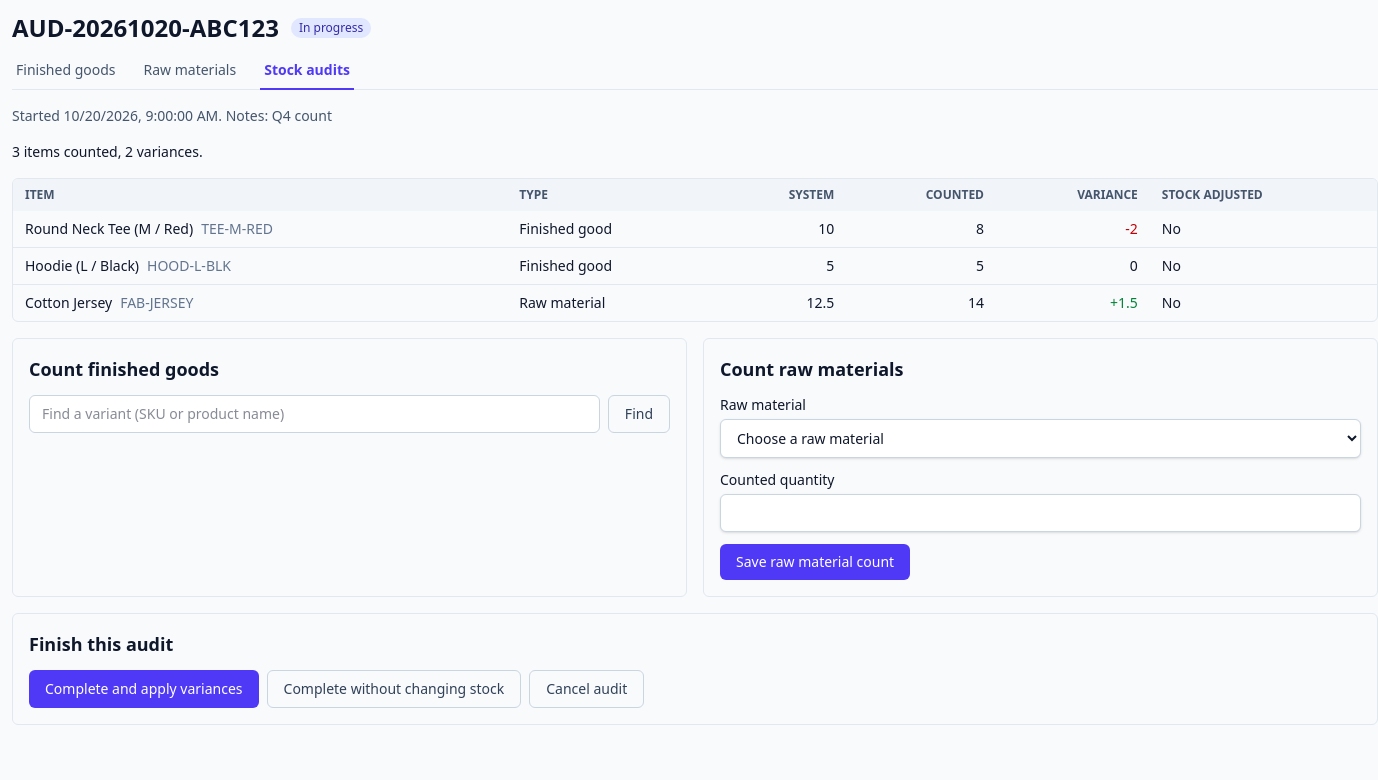
AuditDetailPage › counts a finished-goods variant found by search
The width and height of the screenshot is (1378, 780).
Type "tee" into the field labelled "Find a variant (SKU or product name)" at [314, 414], box left=29, top=395, right=600, bottom=433
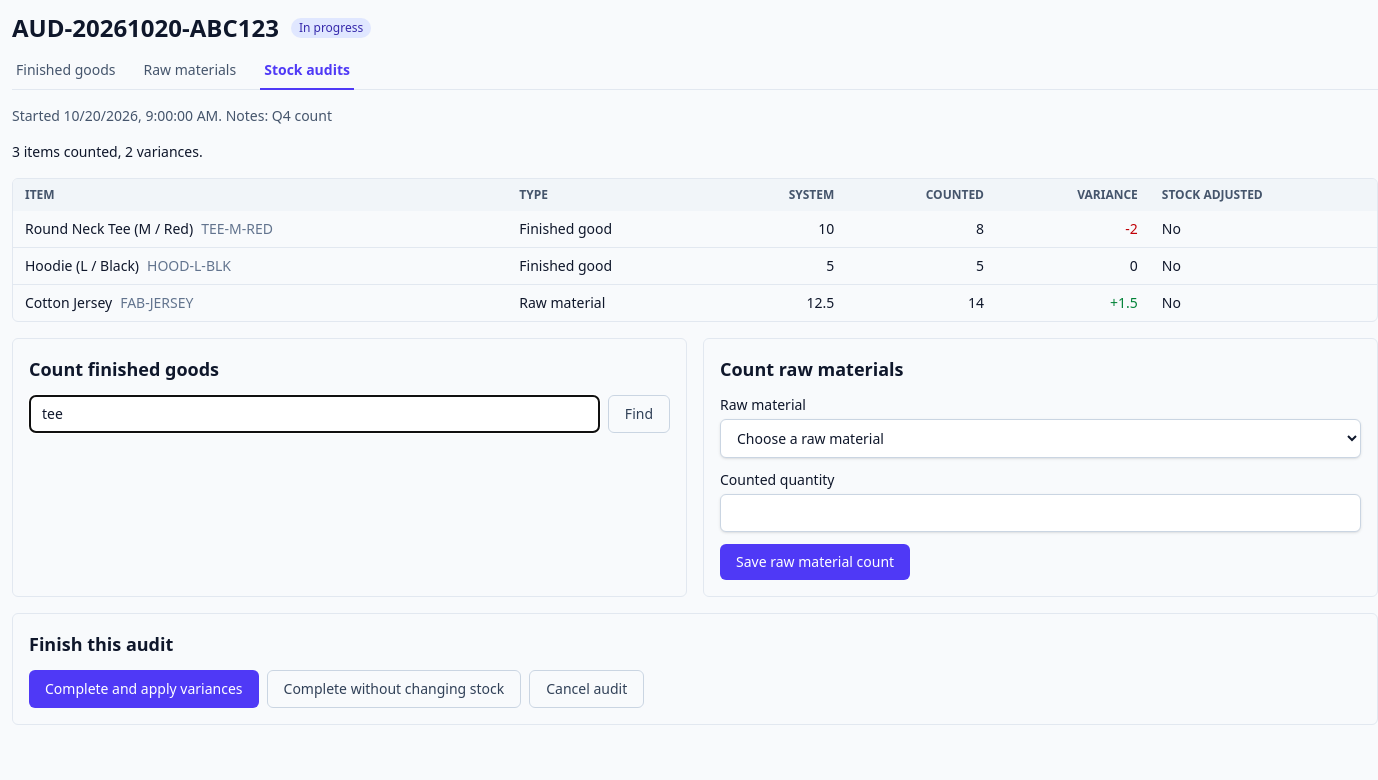
Click the button "Find" at [639, 414], box left=608, top=395, right=670, bottom=433
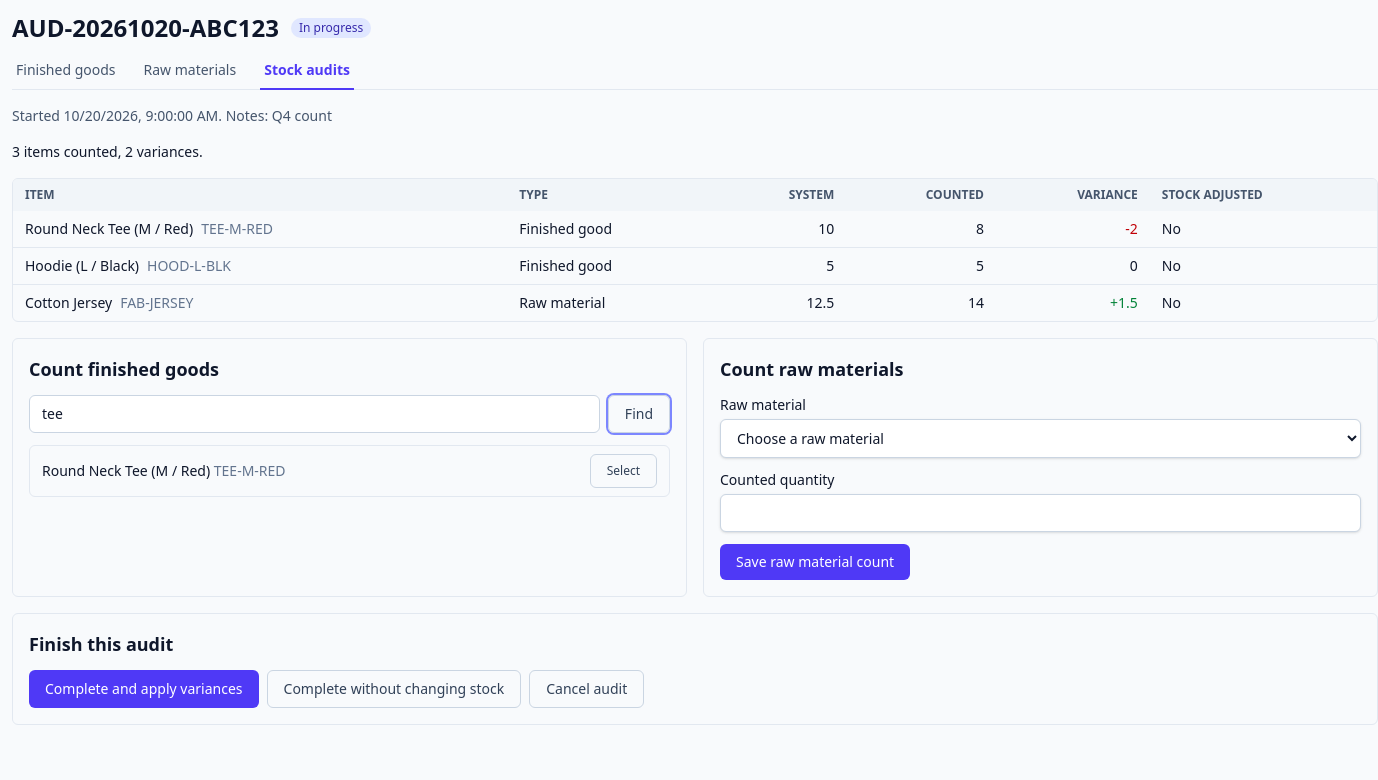
Click the button with aria-label "Select Round Neck Tee (M / Red)" at [623, 471], box left=590, top=454, right=657, bottom=488
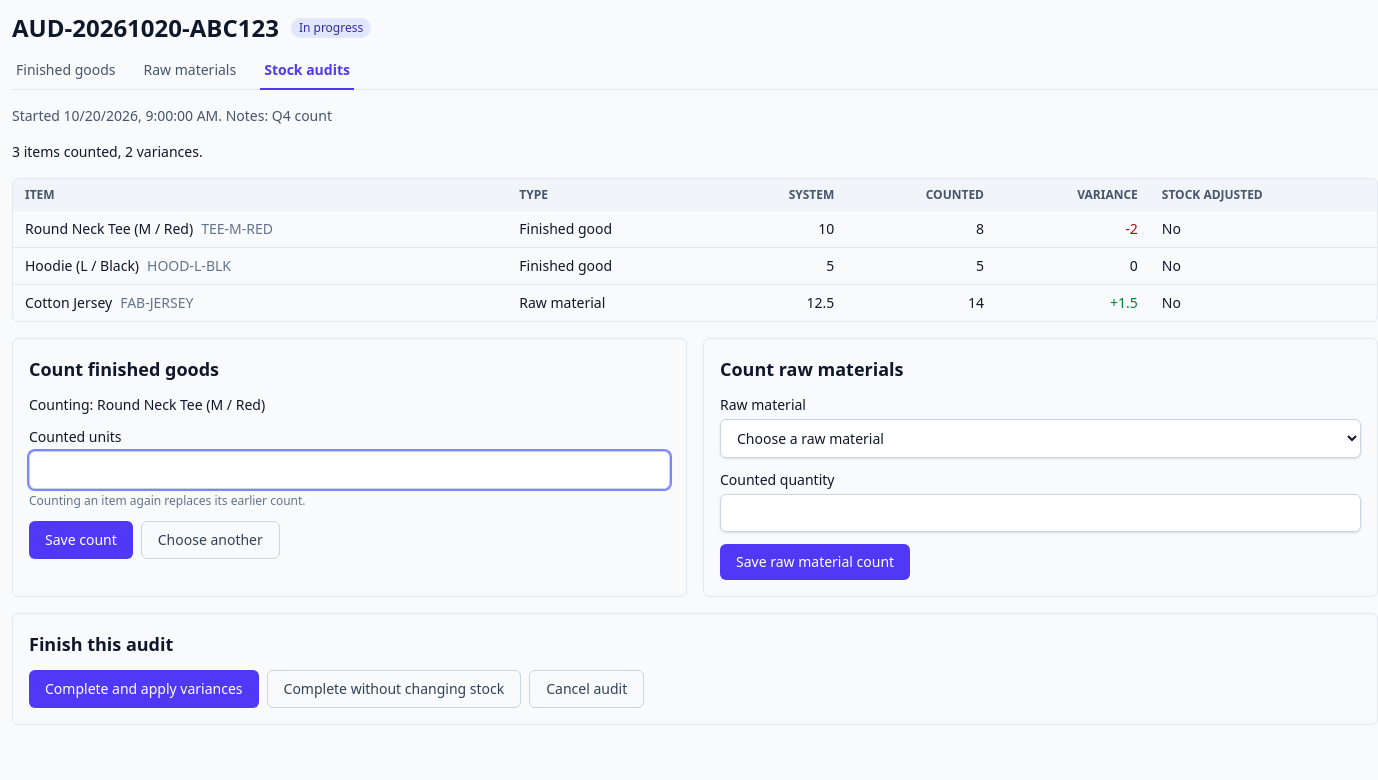
Type "8" into the field labelled "Counted units" at [350, 470], box left=29, top=451, right=670, bottom=489
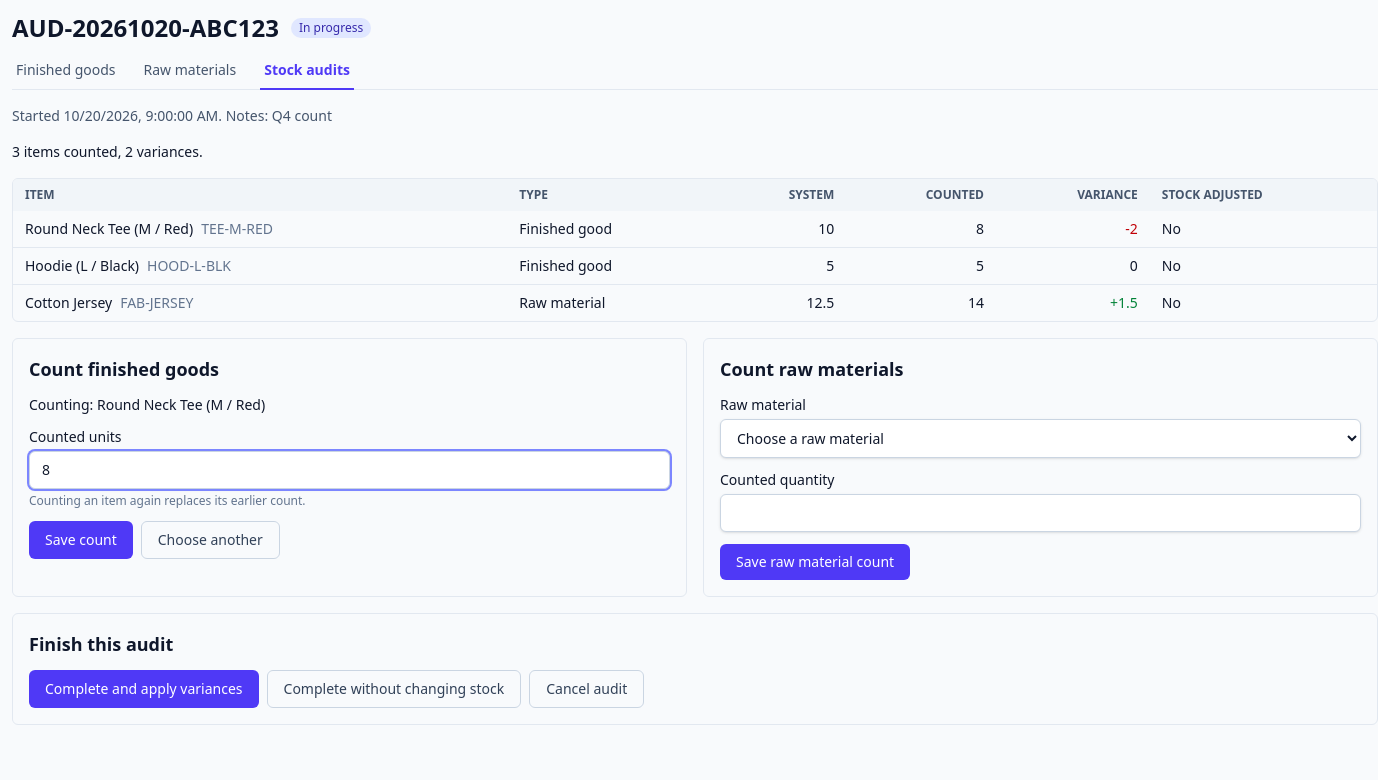
Click the button "Save count" at [81, 540], box left=29, top=521, right=133, bottom=559
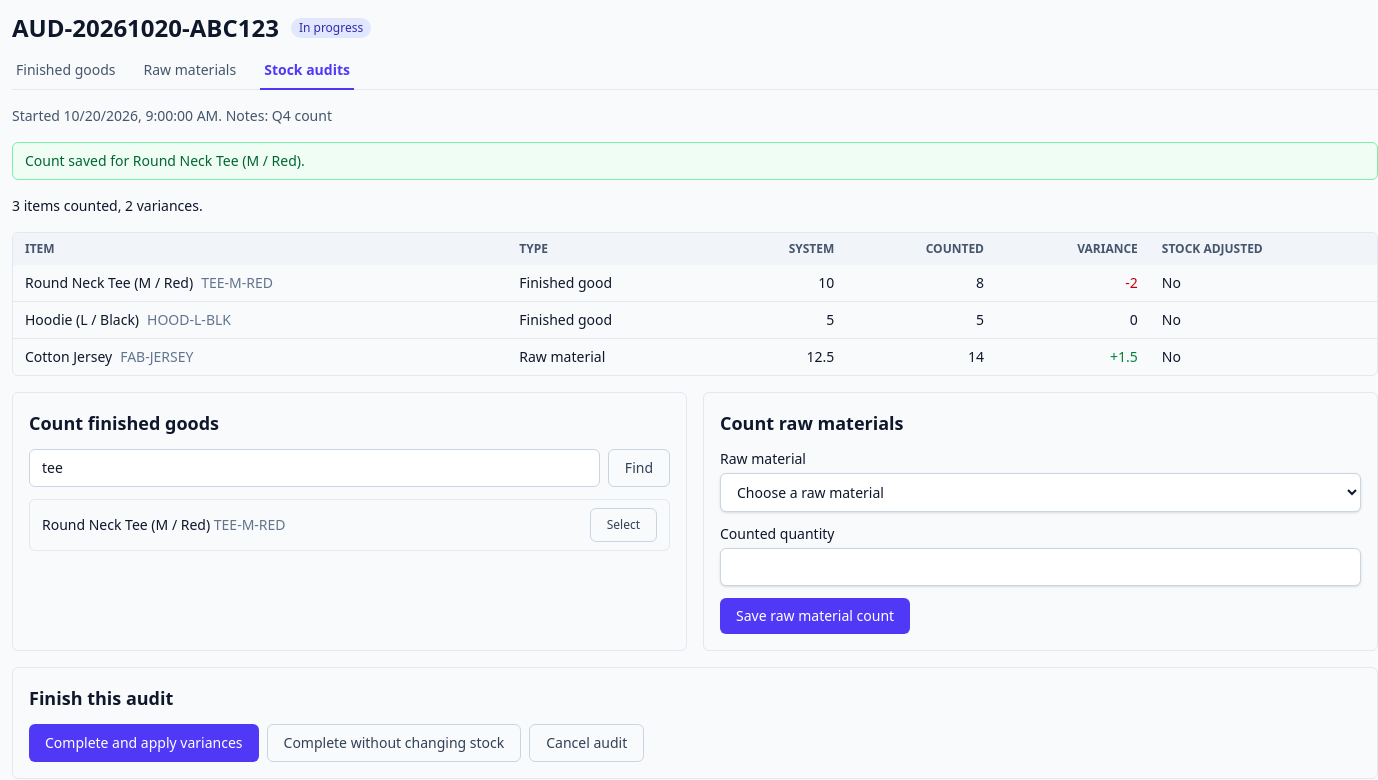
Result: the text "Count saved for Round Neck Tee (M / Red)." is shown at left=12, top=142, right=1377, bottom=180
